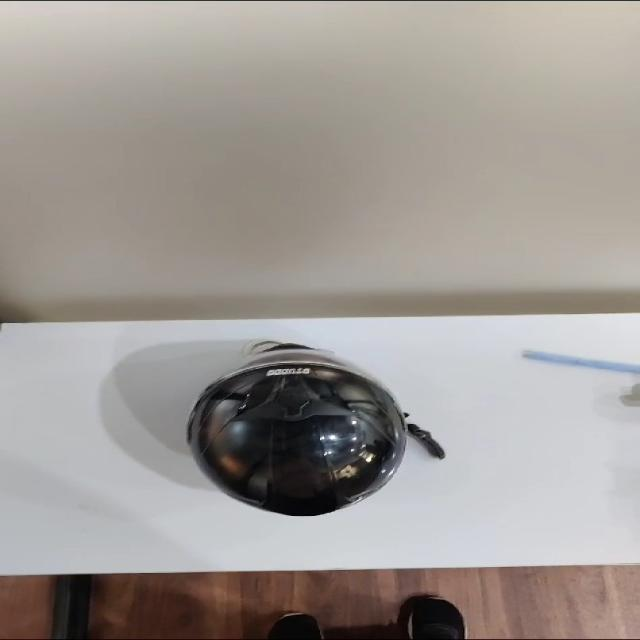helmet: (188, 341, 443, 515)
